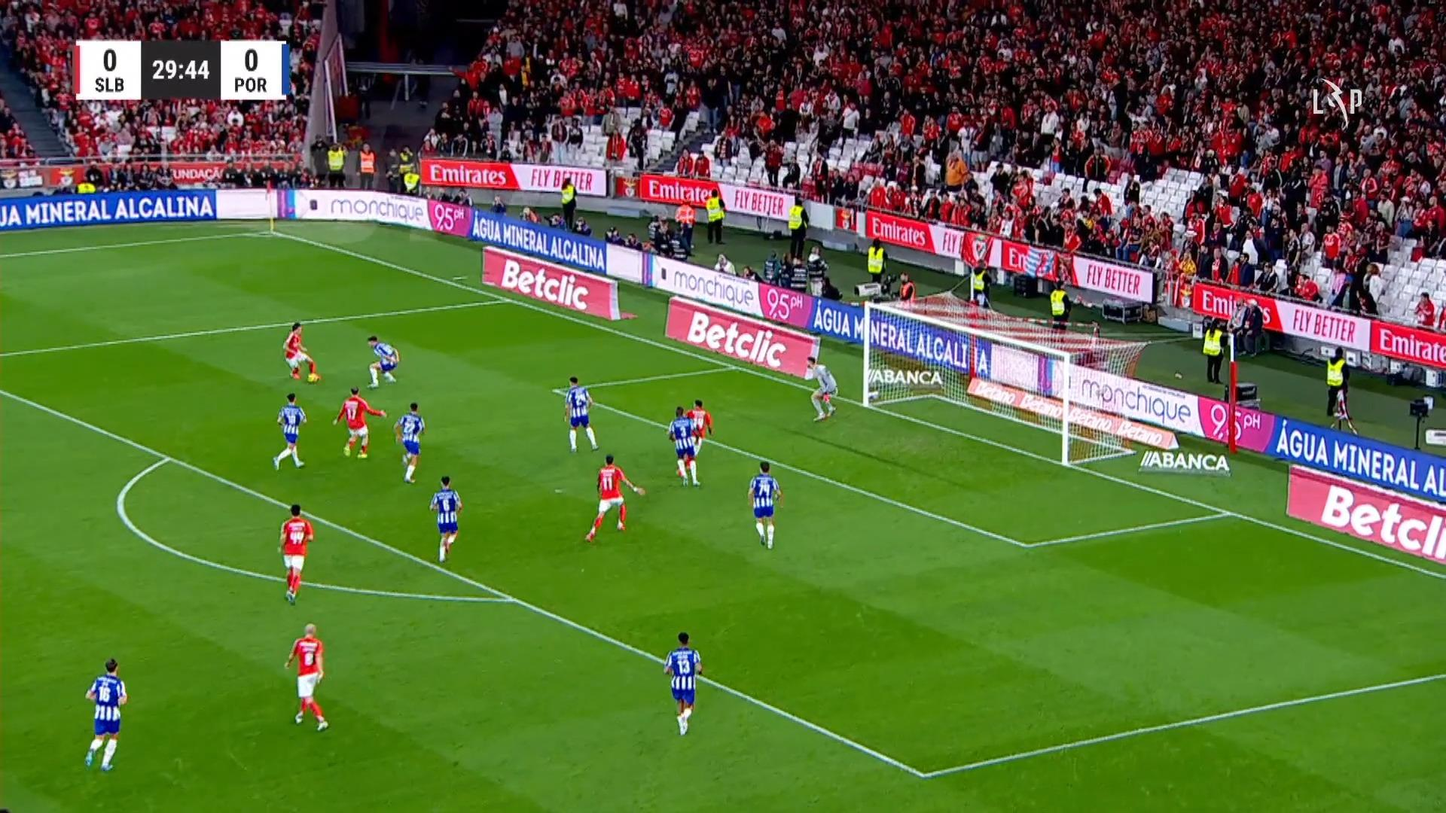ball: (307, 373, 320, 382)
goalkeeper: (804, 355, 838, 422)
player: (583, 453, 645, 542), (283, 623, 330, 731), (84, 657, 127, 771), (662, 631, 703, 735), (331, 386, 386, 458), (277, 504, 314, 604), (746, 460, 783, 550), (428, 475, 462, 563), (271, 392, 307, 470), (563, 375, 599, 452), (392, 401, 425, 483), (667, 405, 700, 486), (282, 321, 320, 382), (365, 334, 399, 388), (685, 398, 714, 458)
